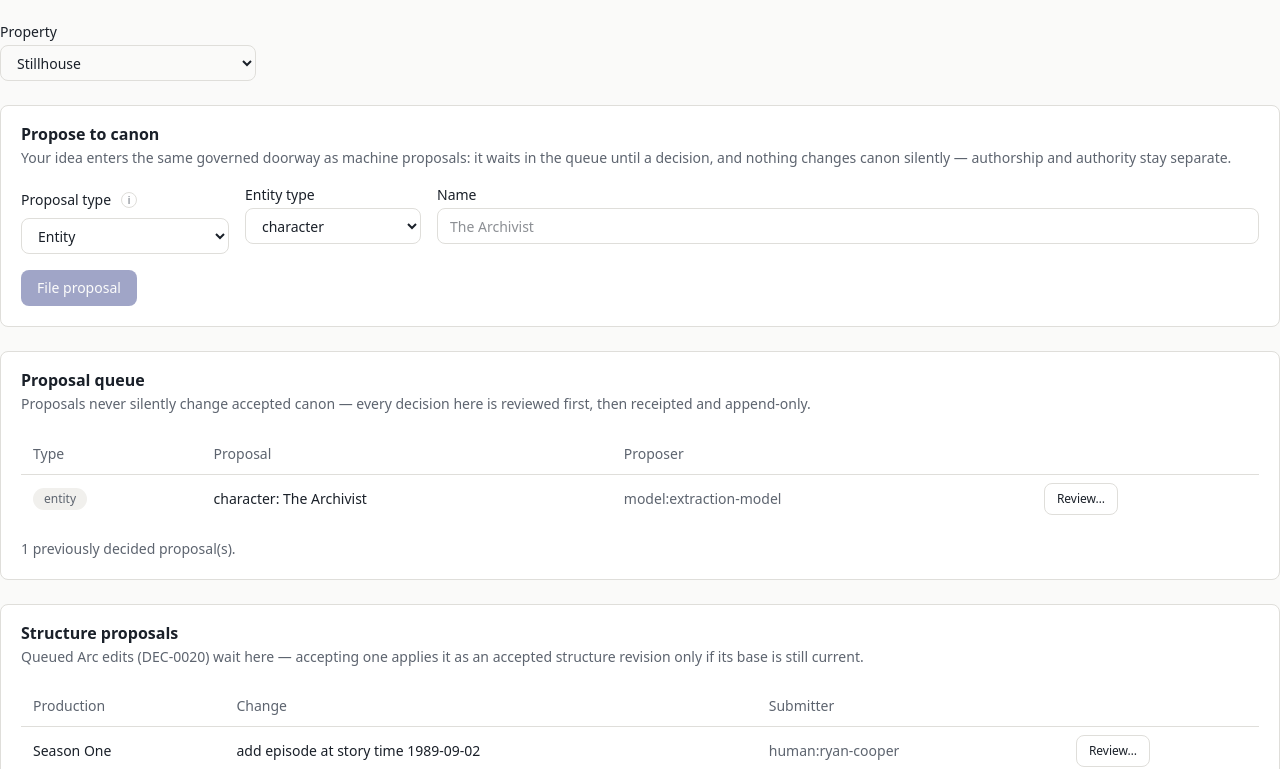
it: Review Room — structure proposals (DEC-0020) › shows the moved-base conflict and preserves the proposal in the queue
What coordinates should you click on to do the following:
click the button "Review…" in the row of "Season One"
I would click on:
 (1113, 751)
Its box is [1076,735,1150,767].
(page scrolled)
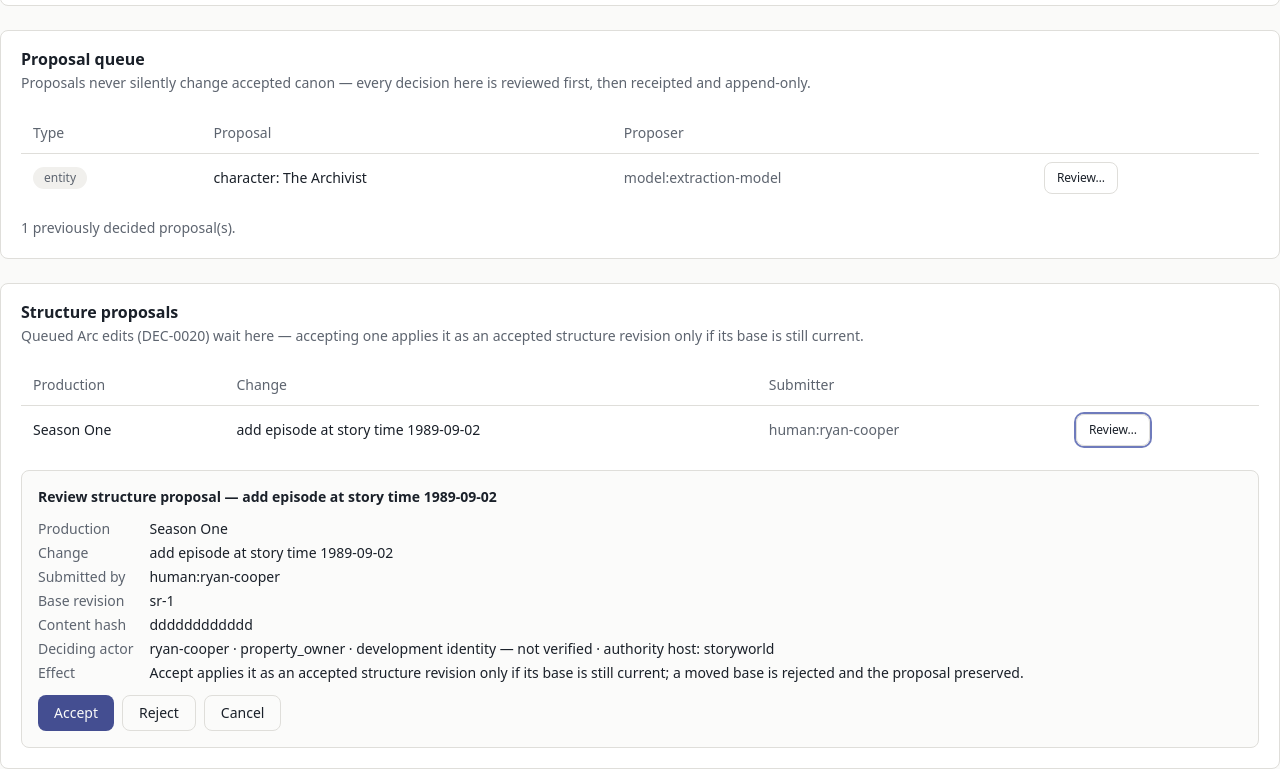
What coordinates should you click on to do the following:
click the button "Accept"
I would click on:
 (76, 713)
Its box is [38,695,114,731].
(page scrolled)
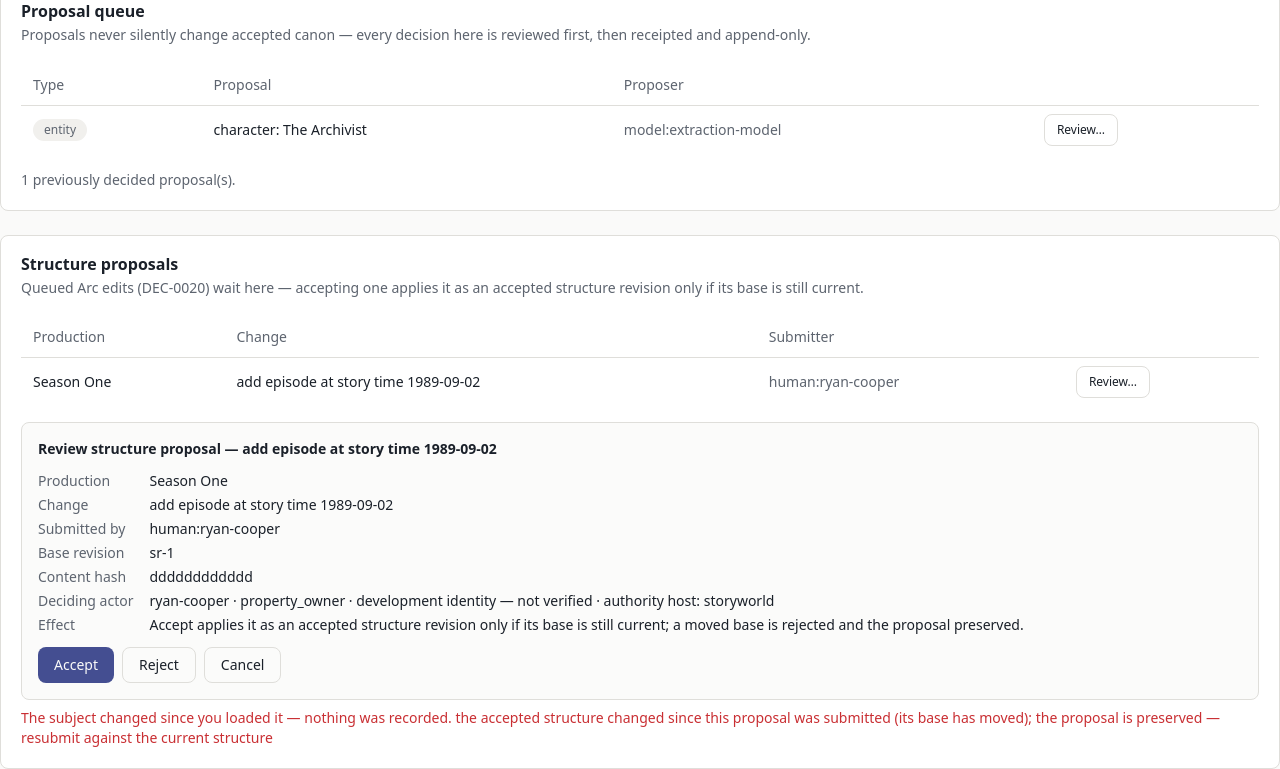
Now the text "base has moved" is shown, box [21,708,1220,747]
